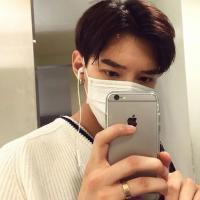OK: (88, 56, 161, 129)
